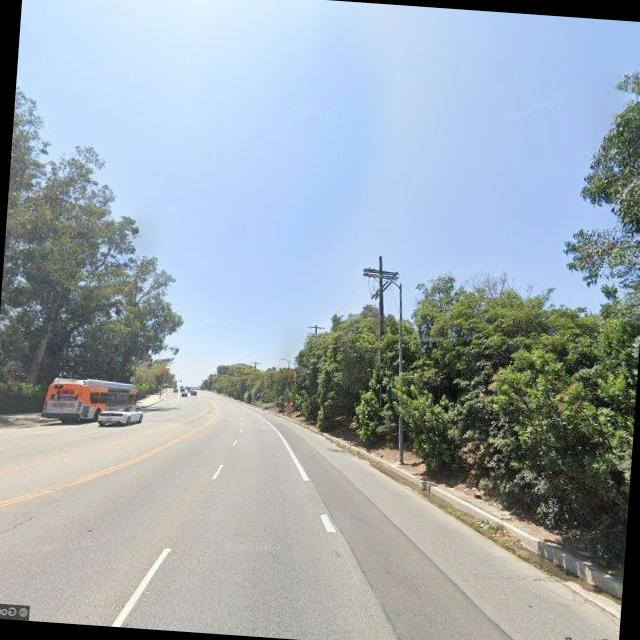crack: (0, 506, 45, 544)
